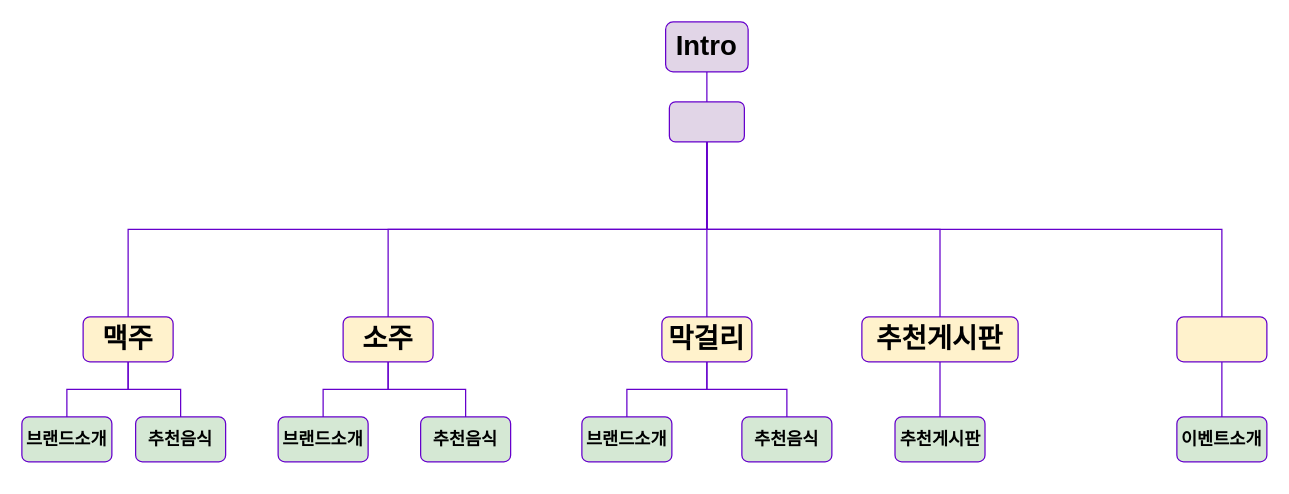
Image size: 1289x494. Some labels were removed from this diagram. The shapes that lost their labels are listed below. From the top down, each one's box as (x1, y1, x2, y2) in pixels, then its label:
(668, 101, 744, 142): main
(1176, 316, 1267, 362): 이벤트
